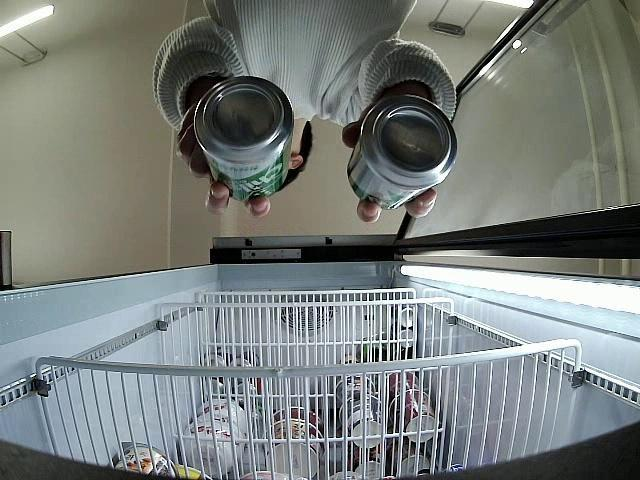12_chilsungCider: (194, 75, 294, 203), (346, 95, 458, 209)
